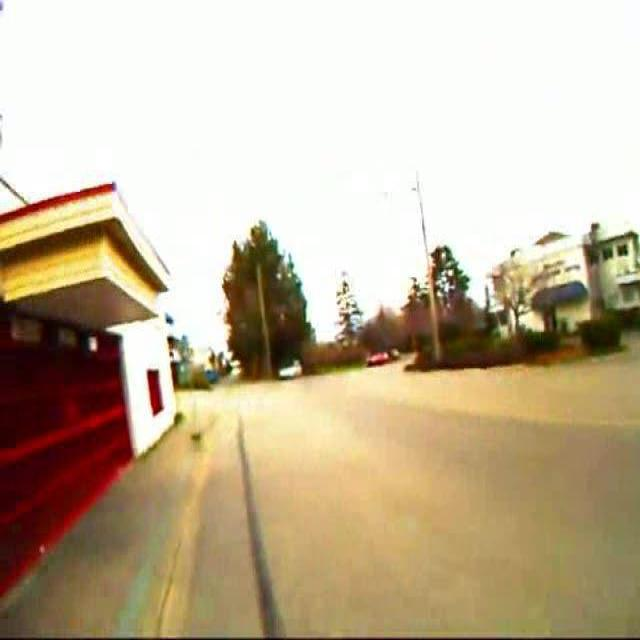other: (157, 240, 221, 366)
